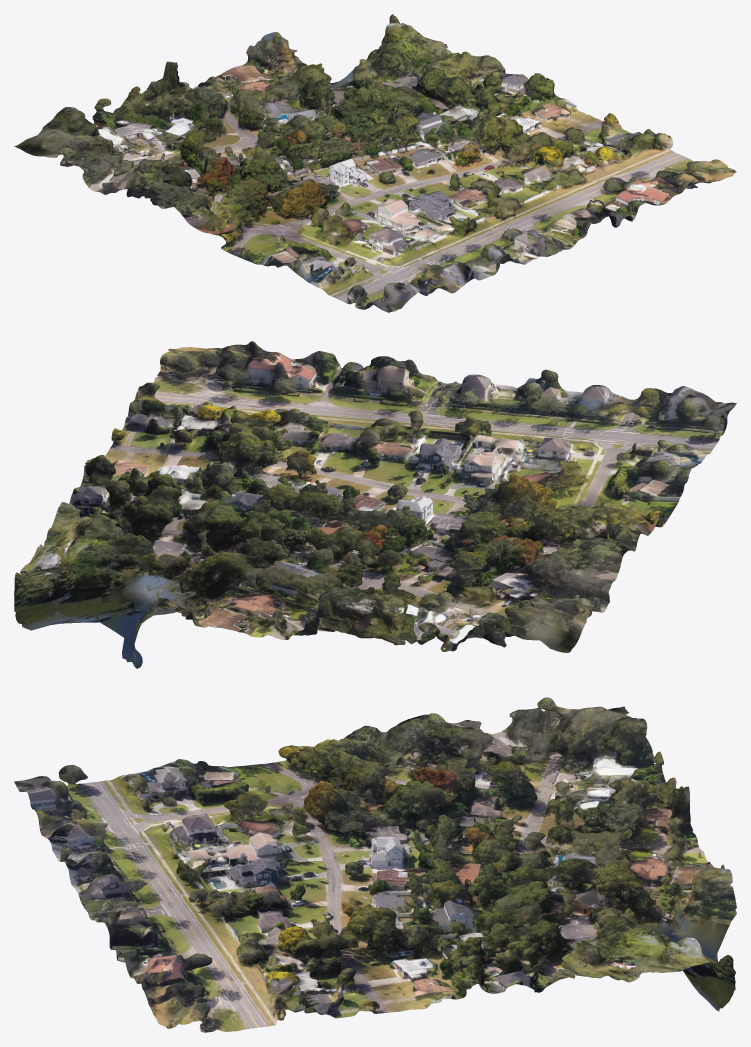
The model's file is sf-us-town-suburb-486e73.glb.
The picture shows the model from 3 angles, top to bottom: view 1: azimuth 30°, elevation 25°; view 2: azimuth 150°, elevation 25°; view 3: azimuth 270°, elevation 25°; orthographic projection. The views are drawn at different scales.
Parts seen in each view (by area): view 1: Model_material0_0; view 2: Model_material0_0; view 3: Model_material0_0.
Boxes of the visible parts, x1,y1,x2,y2 form: Model_material0_0: [14, 14, 736, 312]; Model_material0_0: [14, 341, 736, 668]; Model_material0_0: [14, 697, 736, 1032].
Size of the model in its own units: 120 by 19.32 by 119.
1 material, 1 textured.
